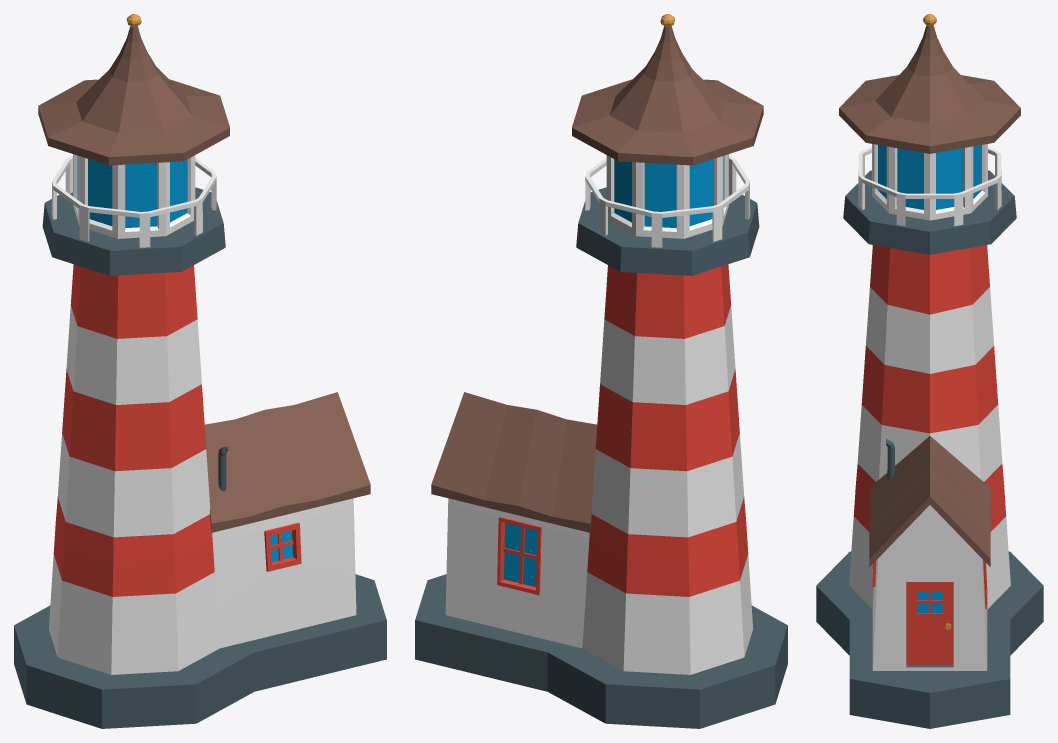
Rendered from Lighthouse_01.gltf.
3 renders of one model, left to right at view 1: azimuth 30°, elevation 25°; view 2: azimuth 150°, elevation 25°; view 3: azimuth 270°, elevation 25°, orthographic. The views are drawn at different scales.
Visible parts, largest first — view 1: node-0; view 2: node-0; view 3: node-0.
Part boxes in pixels (box(x1,y1,x2,y2)): node-0: box(14, 14, 386, 728); node-0: box(415, 14, 787, 728); node-0: box(816, 14, 1043, 728).
Size of the model in its own units: 9.93 by 18.12 by 6.15.
